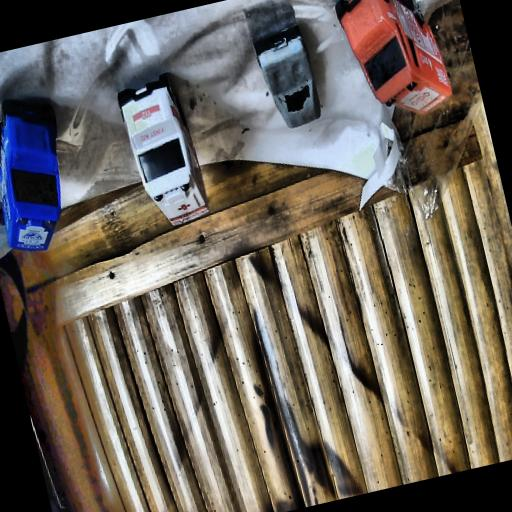ambulance: (114, 71, 214, 234)
fire_truck: (325, 0, 454, 131)
normal_car: (245, 3, 324, 135)
police car: (0, 90, 85, 259)
